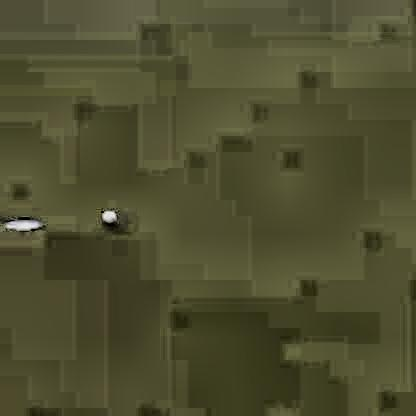golfball: (98, 206, 113, 223)
